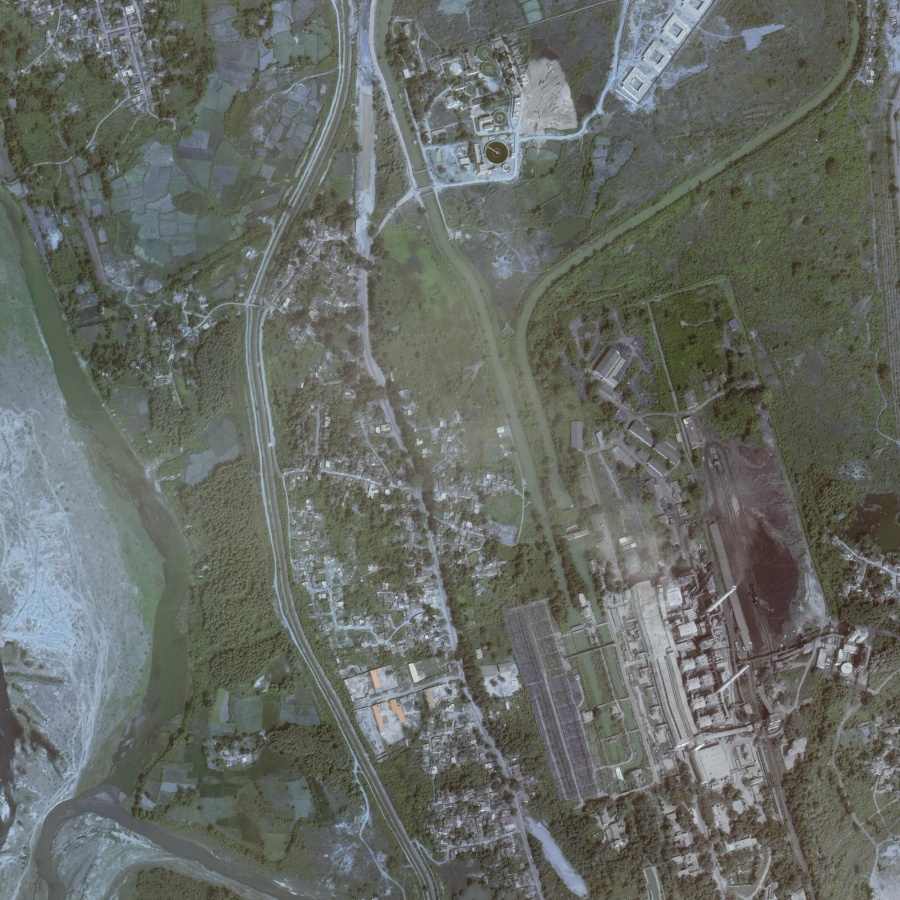PowerPlant: (612, 430, 809, 728)
